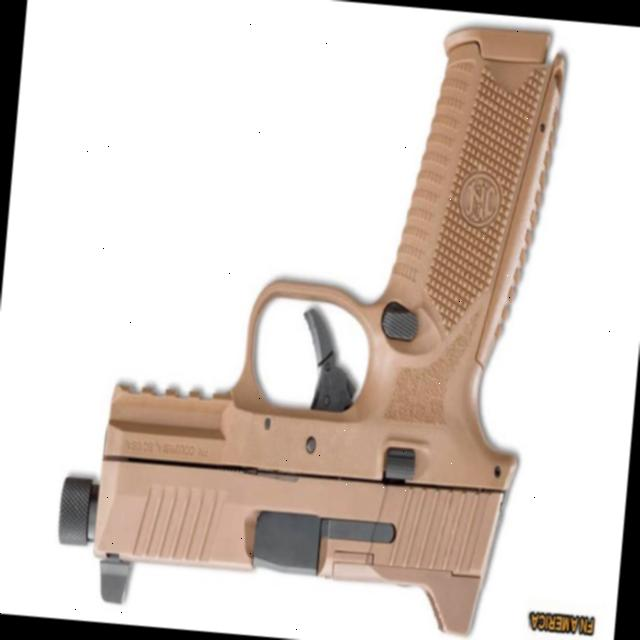Handgun: (53, 0, 561, 640)
